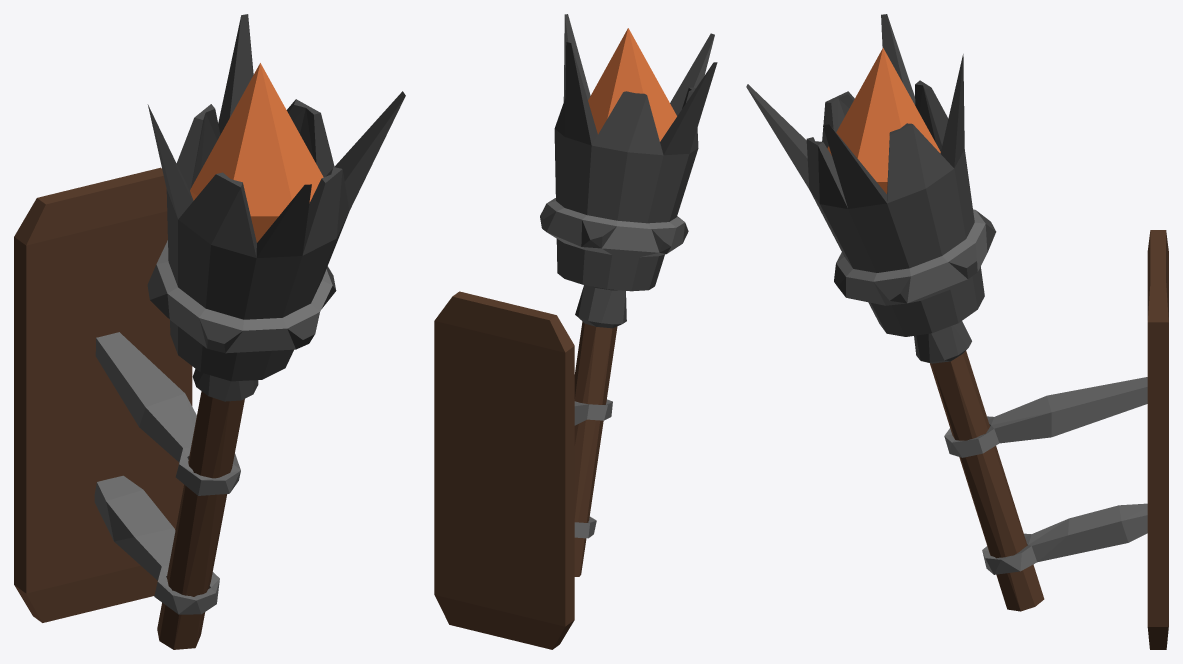
Rendered from Torch.glb.
The picture shows the model from 3 angles, left to right: view 1: azimuth 30°, elevation 25°; view 2: azimuth 150°, elevation 25°; view 3: azimuth 270°, elevation 25°; orthographic projection. The views are drawn at different scales.
Visible parts, largest first — view 1: Torch; view 2: Torch; view 3: Torch.
Part boxes in pixels (box(x1,y1,x2,y2)): Torch: box(14, 14, 405, 649); Torch: box(434, 14, 717, 649); Torch: box(746, 14, 1168, 649).
Size of the model in its own units: 0.6729 by 1.91 by 1.26.
